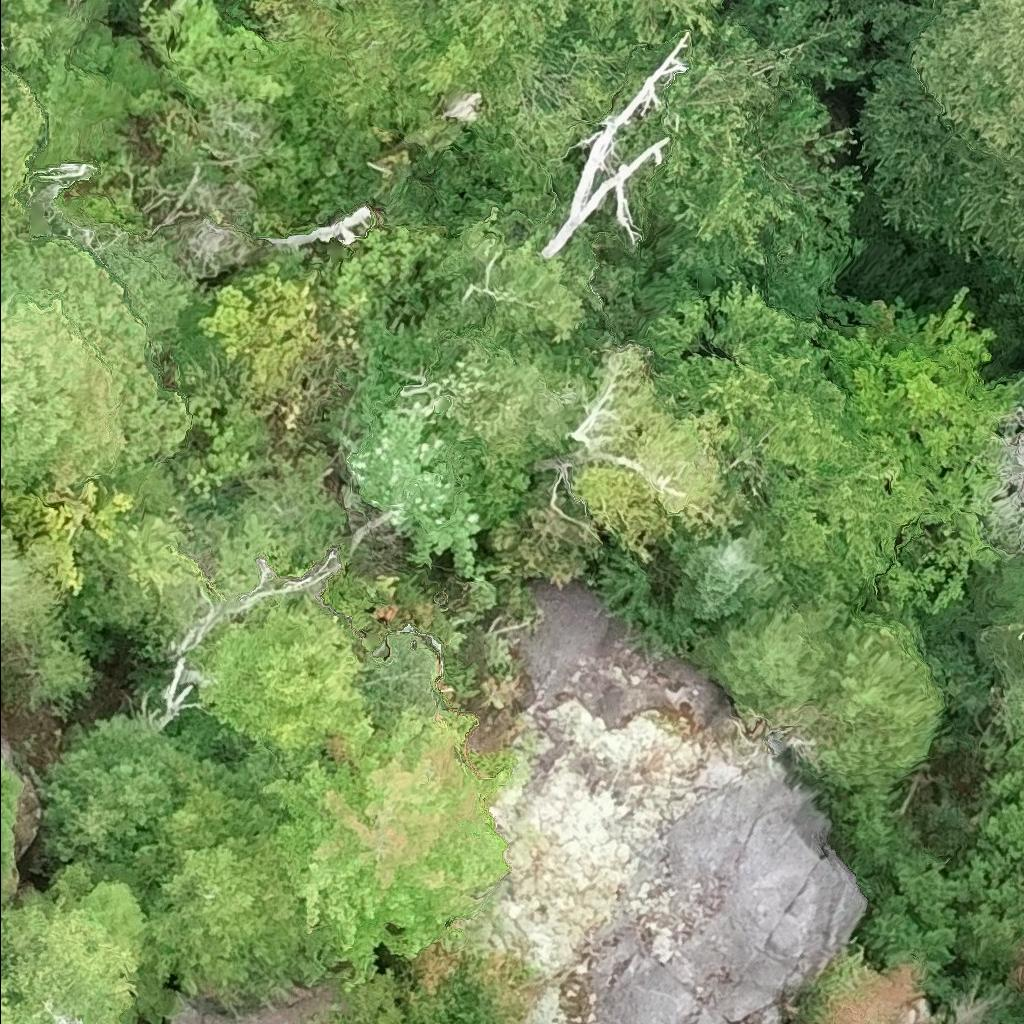crown: (262, 703, 509, 985), (313, 0, 724, 160), (0, 238, 192, 485), (863, 0, 1023, 260), (196, 593, 373, 772), (141, 829, 312, 1001), (812, 617, 945, 788), (688, 593, 851, 716), (0, 892, 137, 1023), (665, 527, 790, 631), (0, 68, 44, 245), (0, 526, 58, 640), (985, 409, 1023, 556), (0, 754, 22, 872), (1011, 954, 1023, 989)
